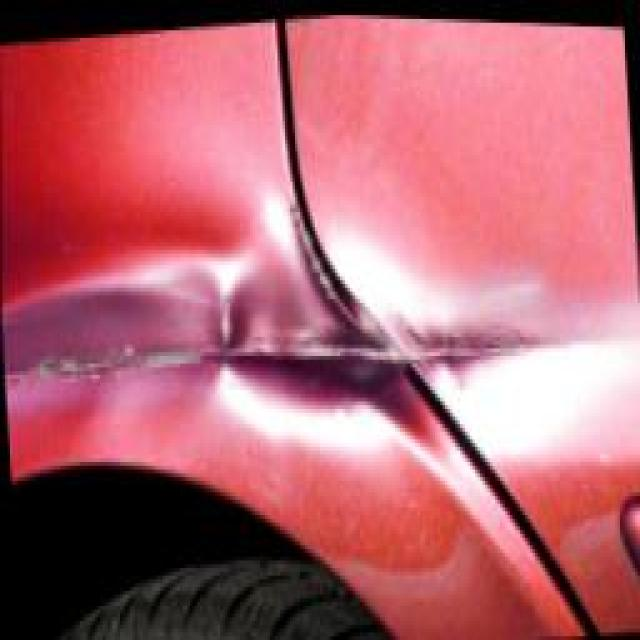Fender: (0, 102, 532, 628)
